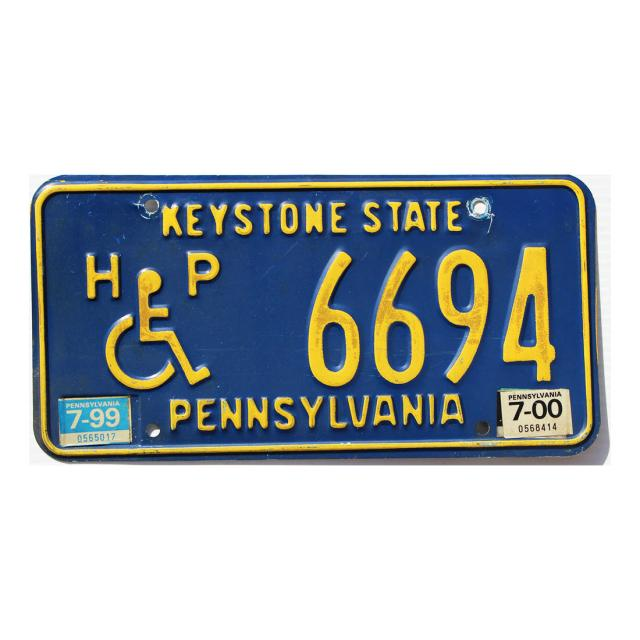symbol_of_access: (79, 252, 228, 396)
